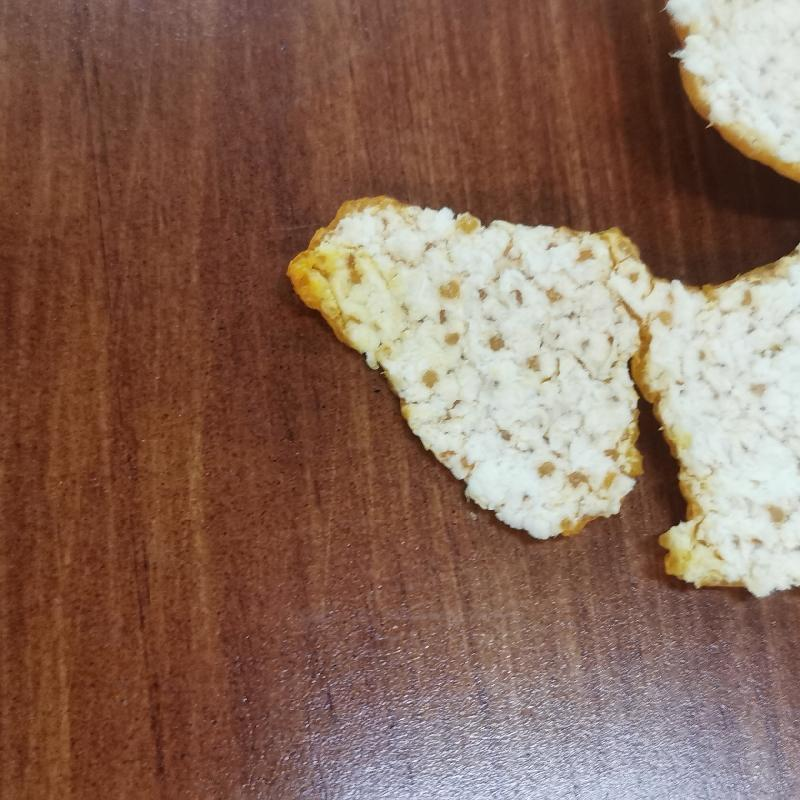orange: (276, 1, 800, 597)
